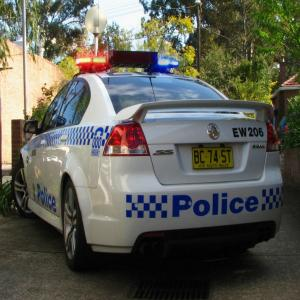Vehicle-registration-plate: (192, 147, 235, 172)
